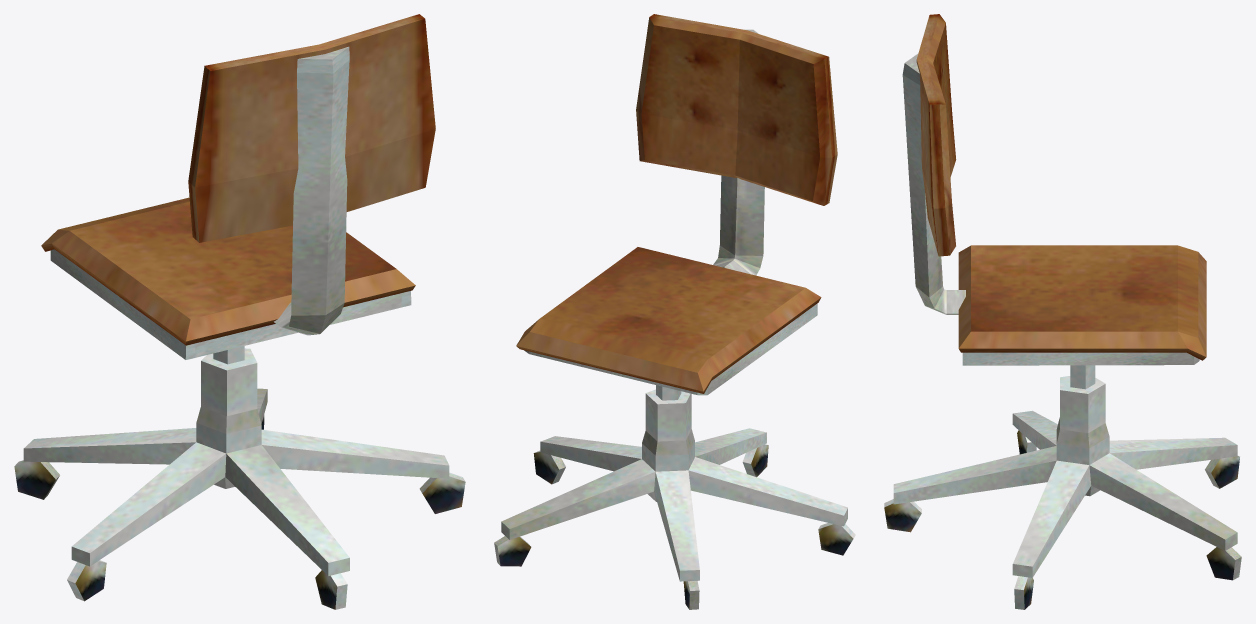
File: office_chair_alt.obj
The picture shows the model from 3 angles, left to right: view 1: azimuth 30°, elevation 25°; view 2: azimuth 150°, elevation 25°; view 3: azimuth 270°, elevation 25°; orthographic projection. The views are drawn at different scales.
Parts seen in each view (by area): view 1: office_chair_alt; view 2: office_chair_alt; view 3: office_chair_alt.
Boxes of the visible parts, <box> form: office_chair_alt: <box>14,14,465,609</box>; office_chair_alt: <box>494,14,855,609</box>; office_chair_alt: <box>884,14,1241,609</box>.
Bounding box in the file's own units: 0.8196 × 1.1 × 0.7513.
